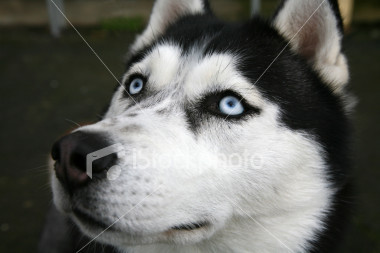dog: (50, 0, 370, 252)
